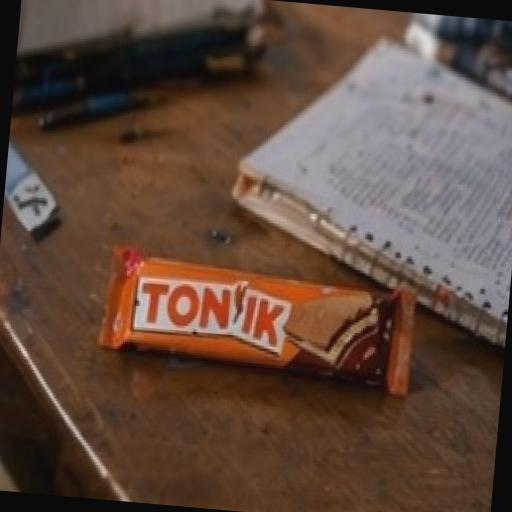tonik: (14, 187, 451, 436)
